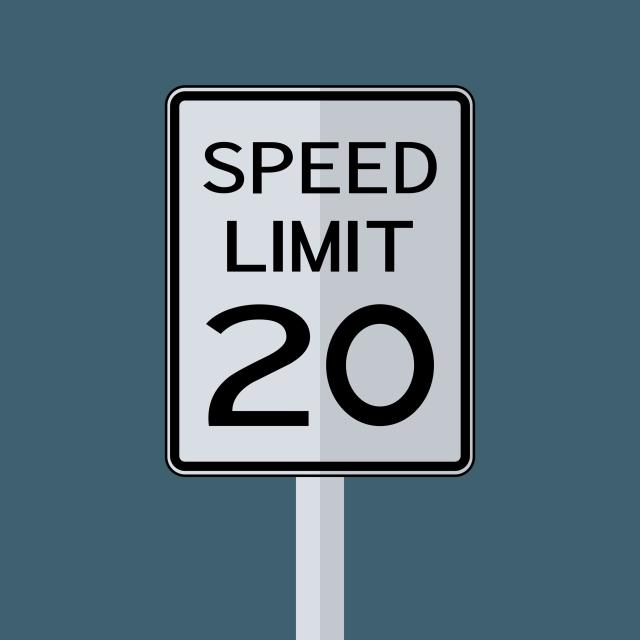speedLimit20: (165, 85, 476, 479)
